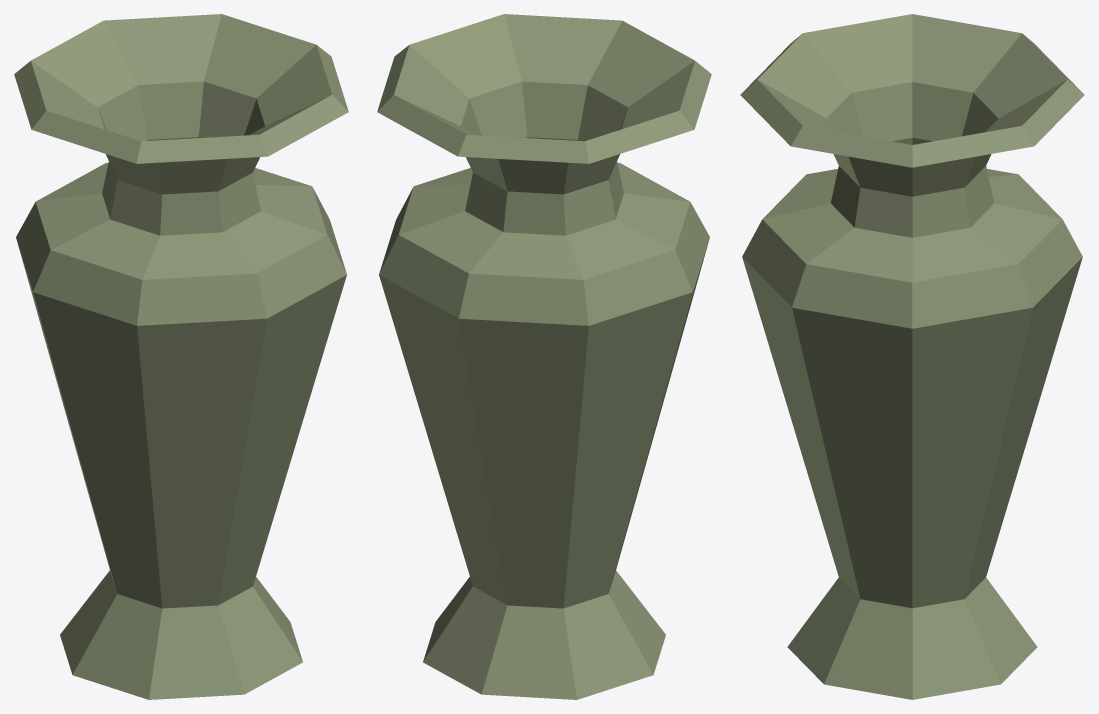
Rendered from Vase5.fbx.
3 renders of one model, left to right at view 1: azimuth 30°, elevation 25°; view 2: azimuth 150°, elevation 25°; view 3: azimuth 270°, elevation 25°, orthographic.
Visible parts, largest first — view 1: Cylinder; view 2: Cylinder; view 3: Cylinder.
Boxes of the visible parts, bbox=[...] form: Cylinder: bbox=[14, 14, 348, 699]; Cylinder: bbox=[377, 14, 711, 699]; Cylinder: bbox=[740, 14, 1084, 699].
Bounding box in the file's own units: 0.5054 × 0.9188 × 0.5054.
